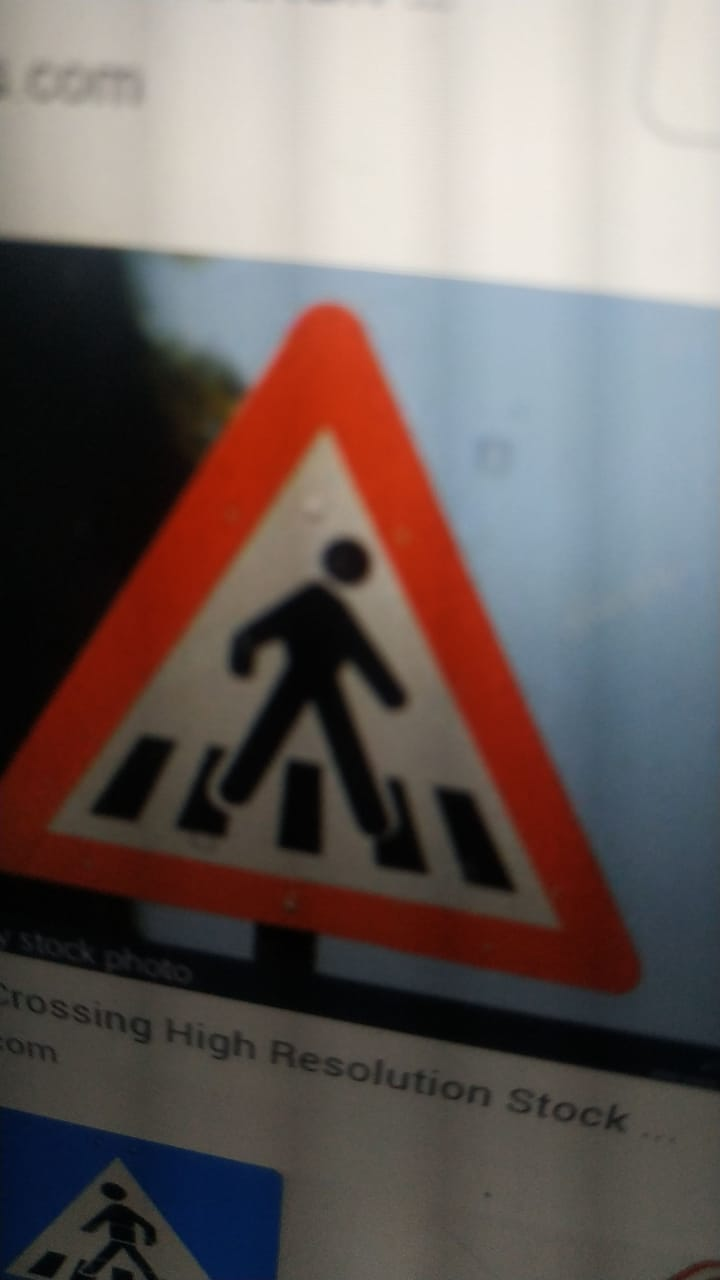PEDESTRIAN CROSSING: (1, 288, 659, 1008)
